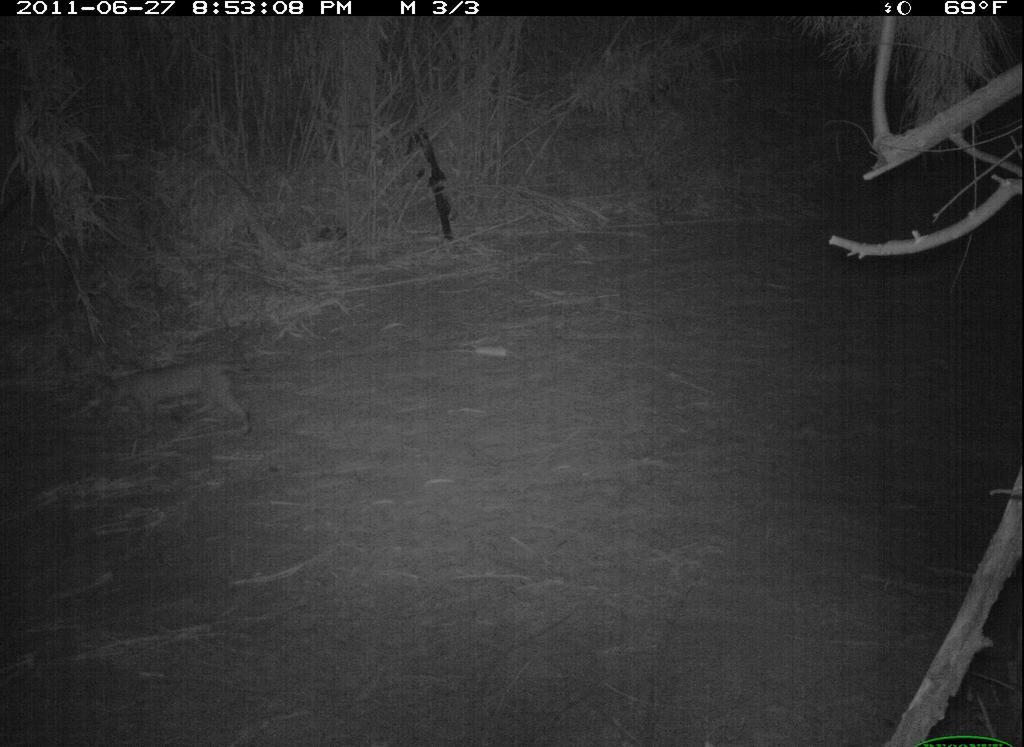bobcat: (89, 347, 265, 455)
